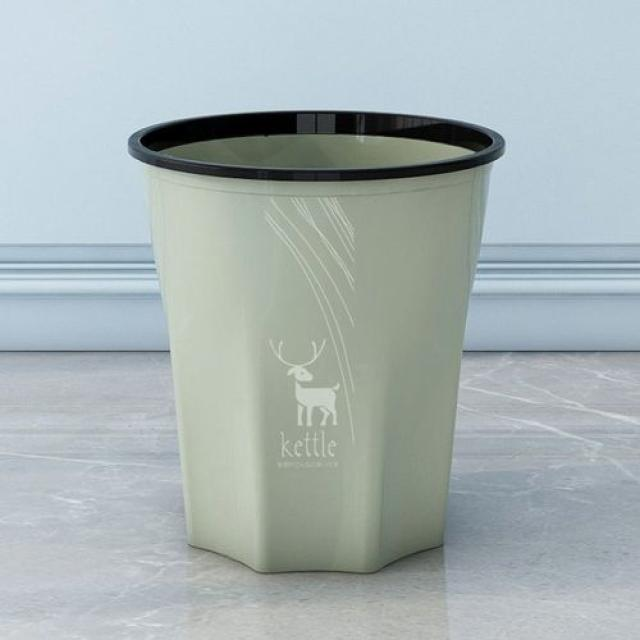dustbin: (116, 85, 516, 585)
